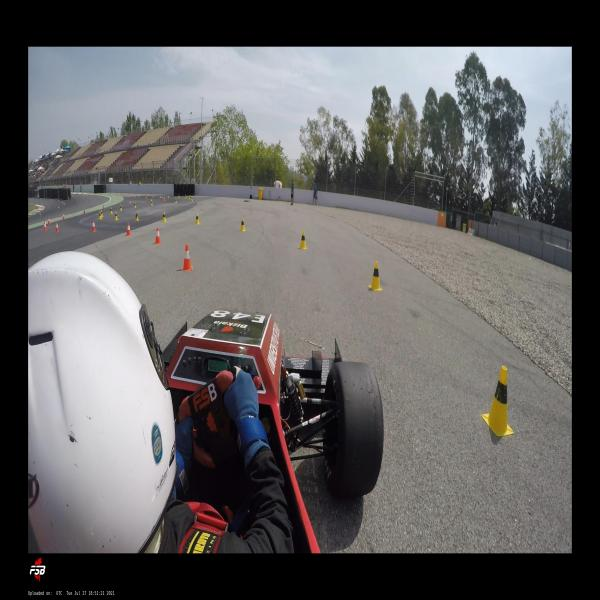orange_cone: (182, 244, 192, 271), (154, 227, 161, 244), (126, 222, 131, 235), (91, 220, 96, 232), (55, 222, 59, 233), (44, 222, 46, 231), (48, 218, 50, 225), (62, 214, 64, 220), (103, 204, 105, 209), (130, 201, 131, 206), (164, 197, 165, 201)
yellow_cone: (481, 366, 514, 437), (369, 262, 382, 290), (299, 231, 307, 250), (239, 218, 245, 231), (195, 213, 199, 225), (162, 212, 166, 222), (114, 211, 118, 221), (134, 212, 138, 221), (98, 211, 102, 220), (100, 210, 103, 218), (110, 207, 113, 214), (134, 202, 137, 208), (120, 204, 122, 211), (150, 199, 152, 206), (175, 198, 177, 203), (184, 194, 186, 199), (188, 194, 190, 199), (178, 194, 180, 198), (191, 197, 193, 201), (190, 195, 191, 200), (168, 194, 169, 198)
